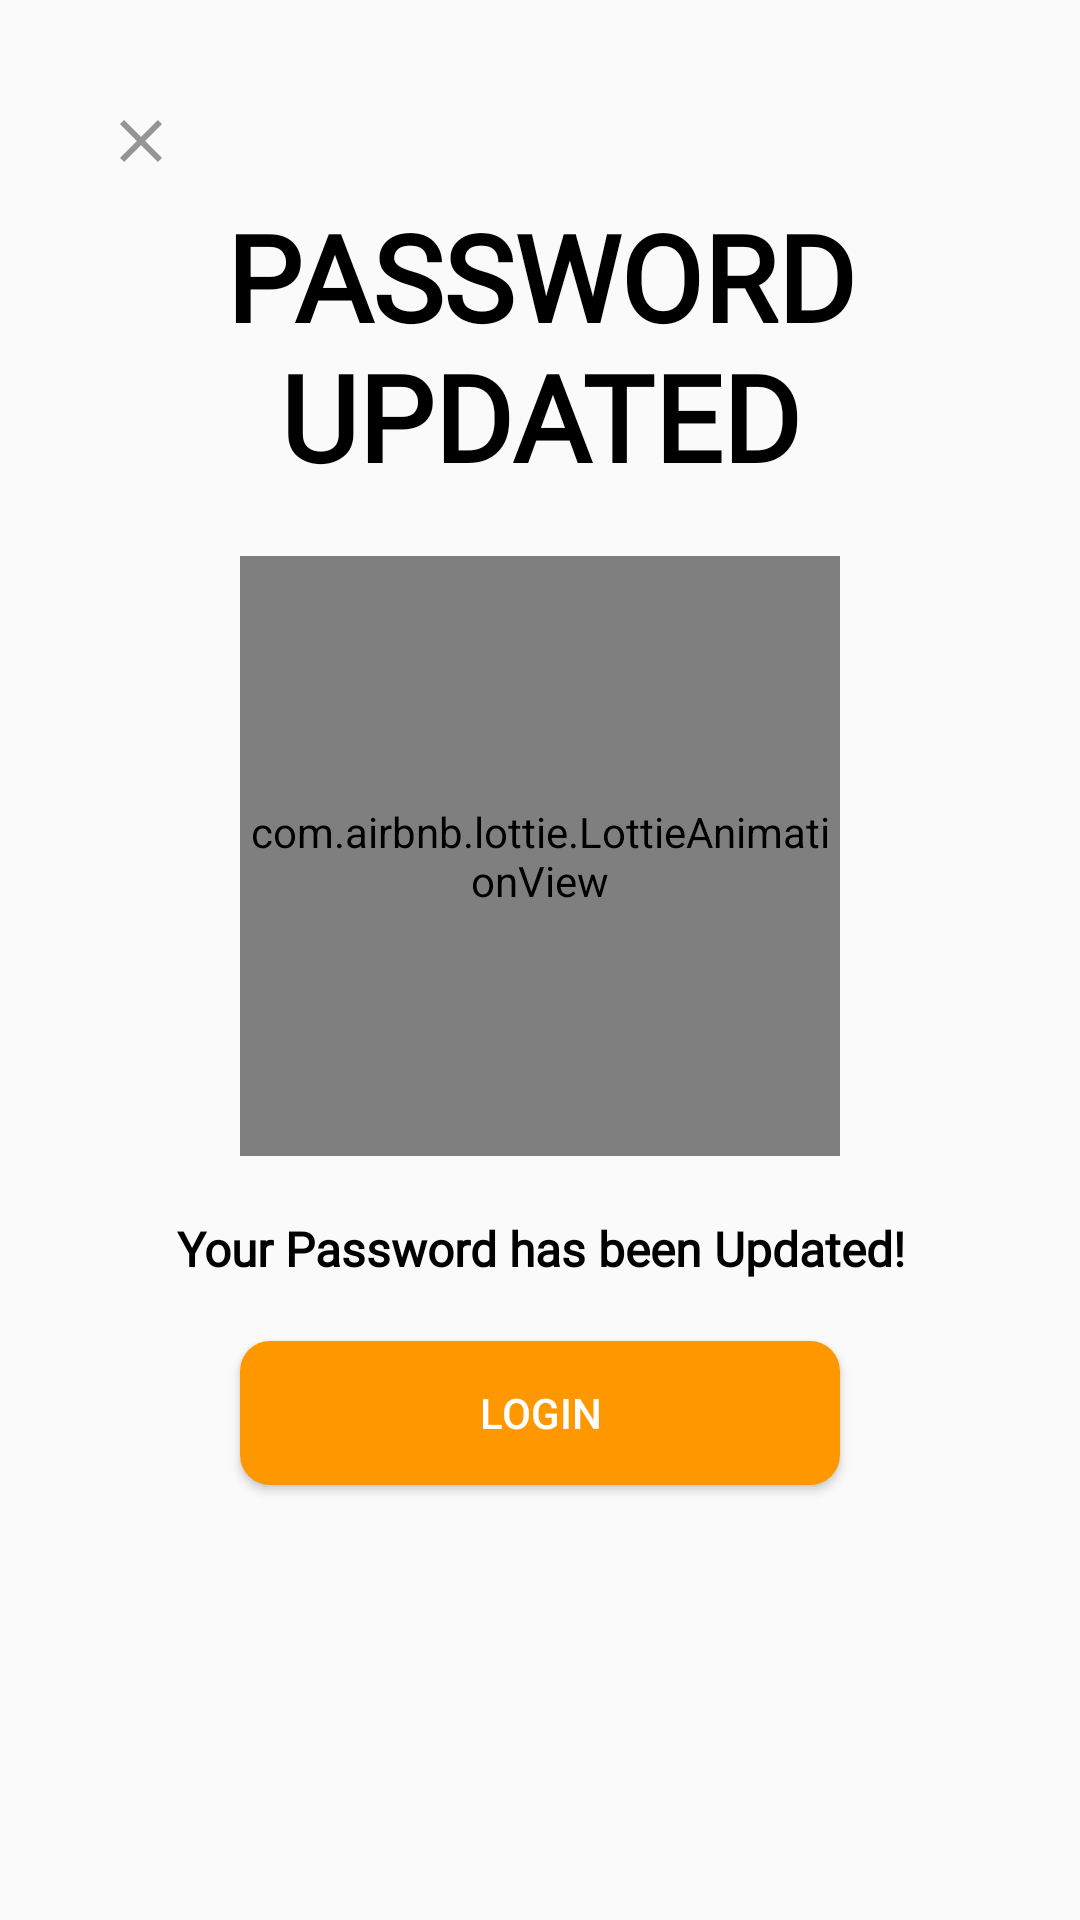

Icon click points for this 1080 x 1920 phone screenshot, format (x=x, y=y):
general close: (x=141, y=141)
